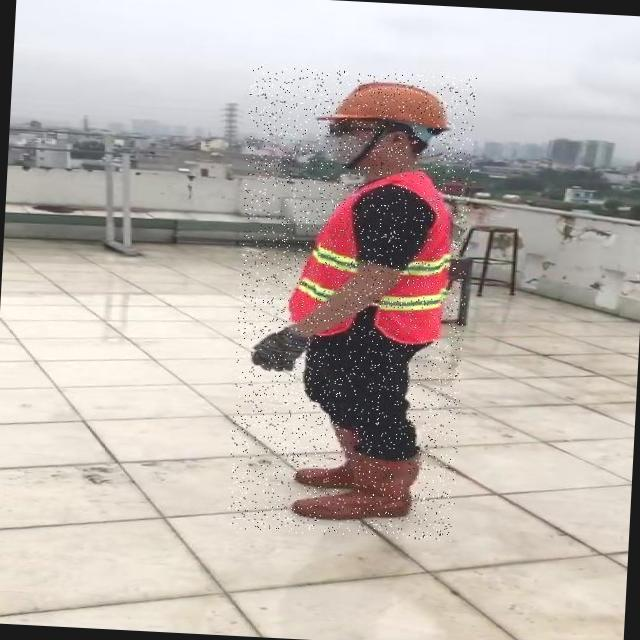boots: (296, 448, 418, 527), (290, 420, 398, 490)
gloves: (247, 330, 307, 376)
helmet: (324, 76, 456, 136)
vest: (284, 168, 456, 344)
